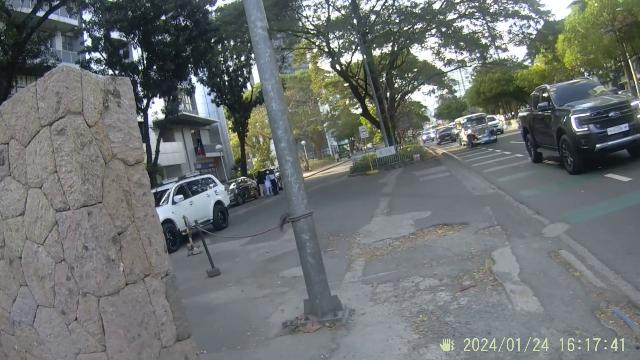utility_post: (239, 0, 345, 338)
